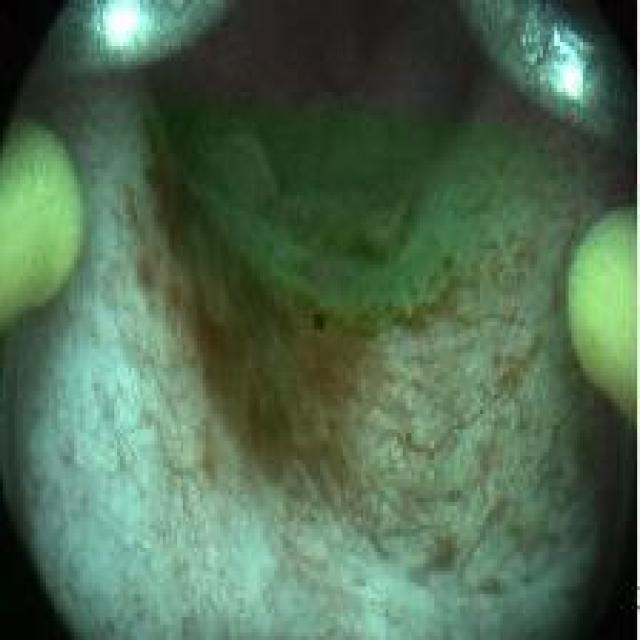color misalignment: (305, 310, 330, 336)
contrast: (236, 0, 470, 111)
instrument: (452, 1, 636, 155), (22, 2, 237, 89), (0, 117, 86, 334), (567, 200, 636, 430)
specularity: (94, 0, 157, 50), (549, 37, 588, 106)
